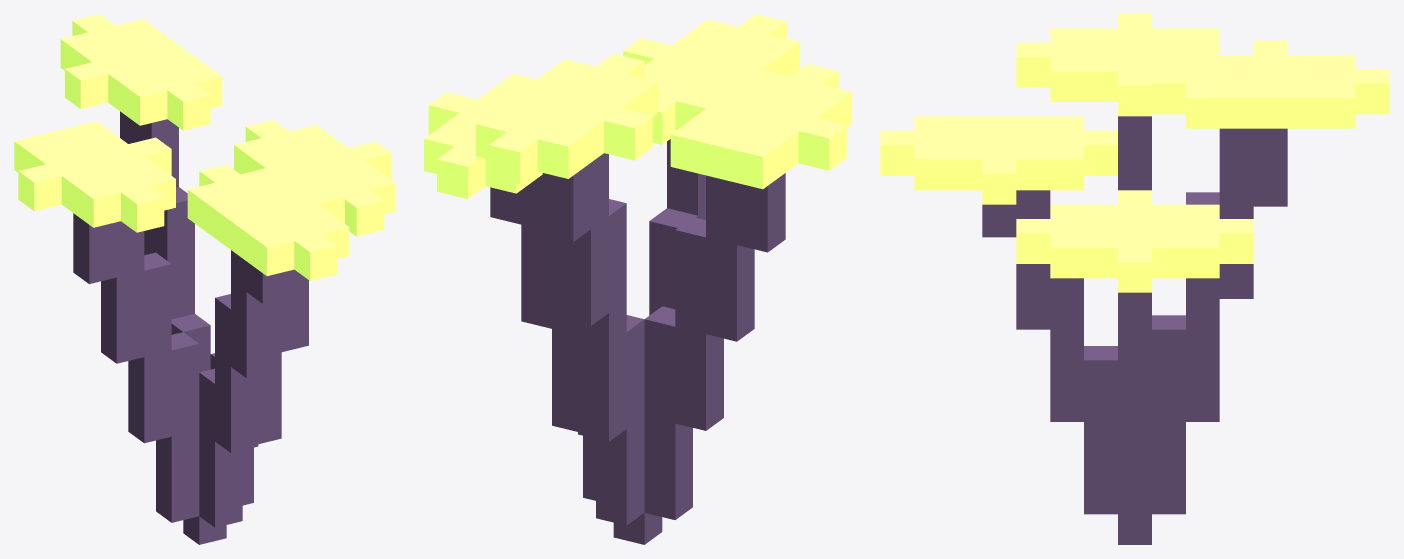
Rendered from alien-biosphere-antenna-grove-c1797904__22832.glb.
3 views of the same model, side by side, from view 1: azimuth 30°, elevation 25°; view 2: azimuth 150°, elevation 25°; view 3: azimuth 270°, elevation 25° (orthographic). The views are drawn at different scales.
Visible parts, largest first — view 1: antenna-grove; view 2: antenna-grove; view 3: antenna-grove.
Part boxes in pixels (x1,y1,x2,y2): antenna-grove: (14,14,395,544); antenna-grove: (424,14,851,544); antenna-grove: (880,14,1389,544).
Bounding box in the file's own units: 2.34 × 2.7 × 2.7.
